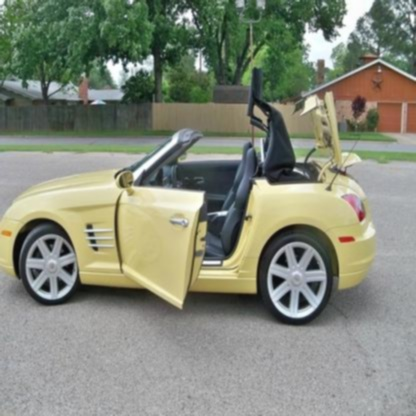Vehicle: (0, 70, 378, 323)
